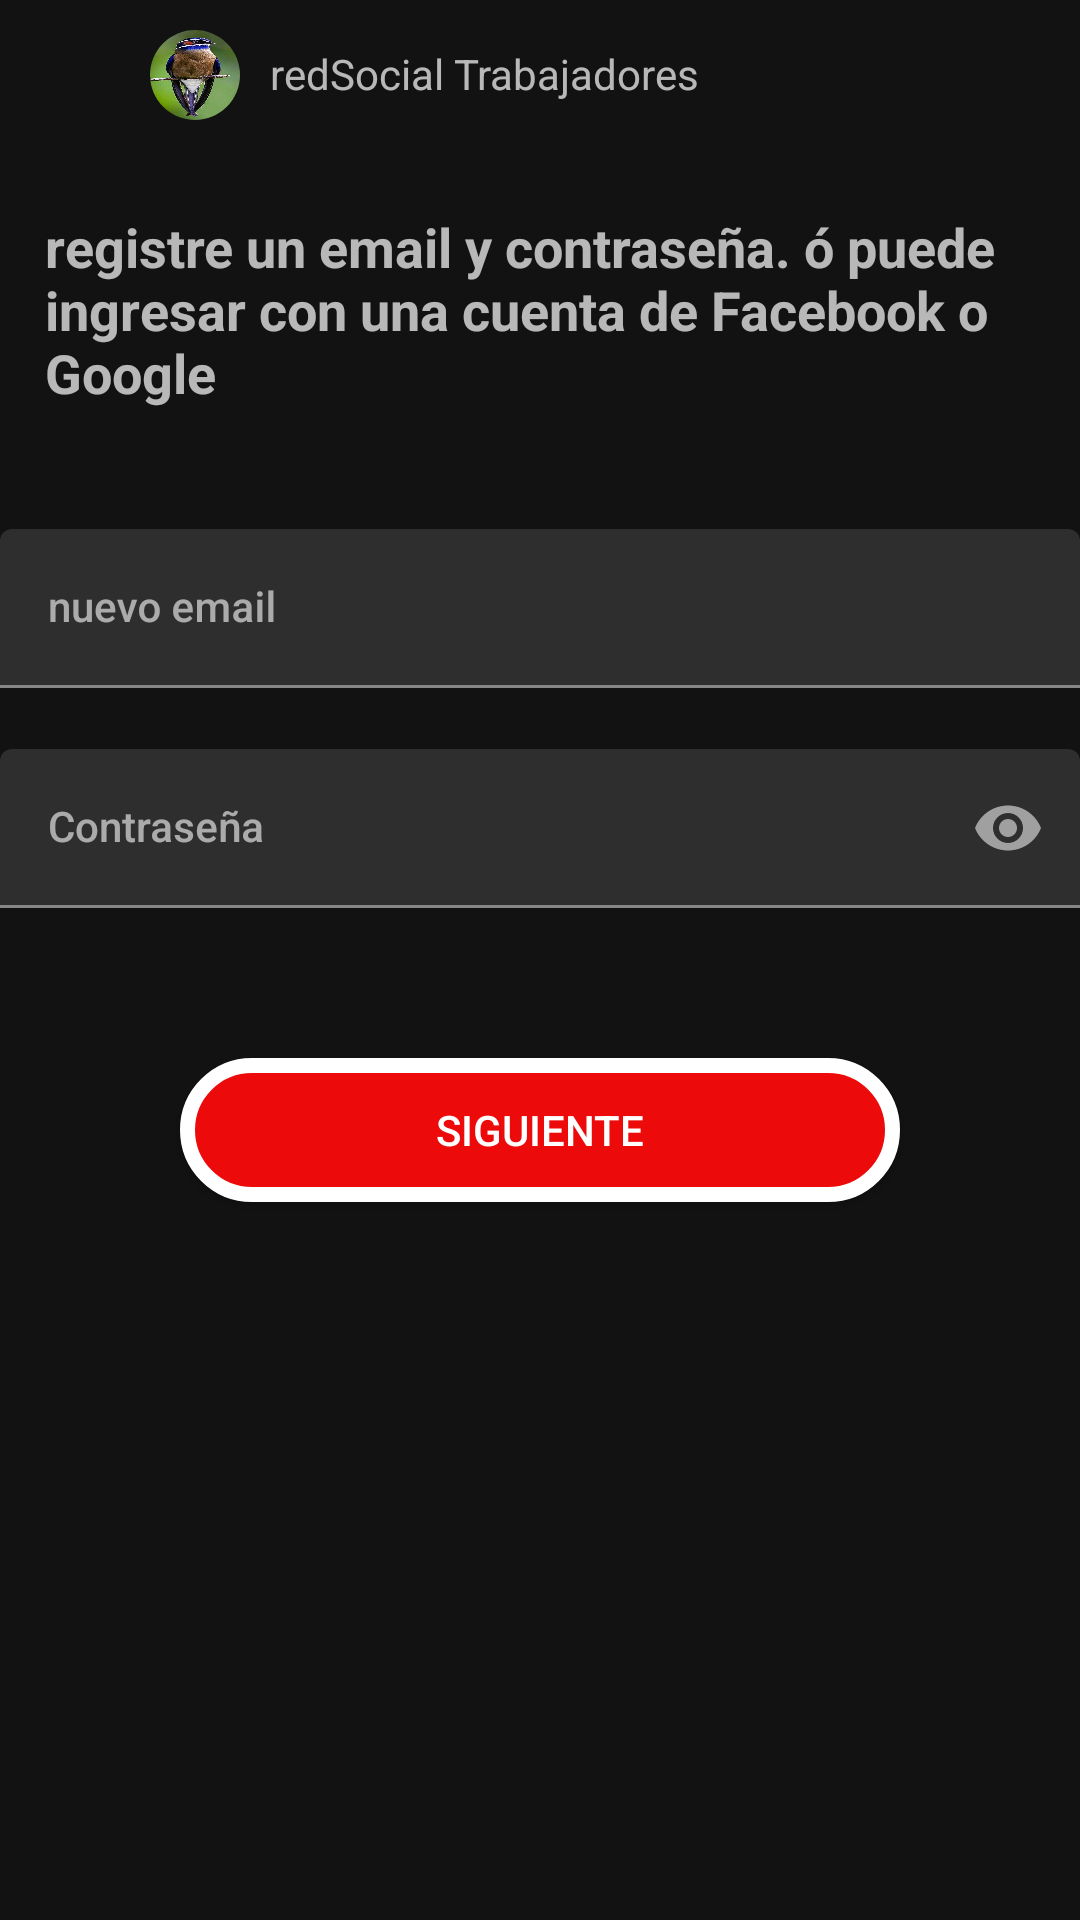

Icons on this 1080 × 1920 Android screen, each with the point to tap as point (x, y):
pajaro: point (195, 75)
